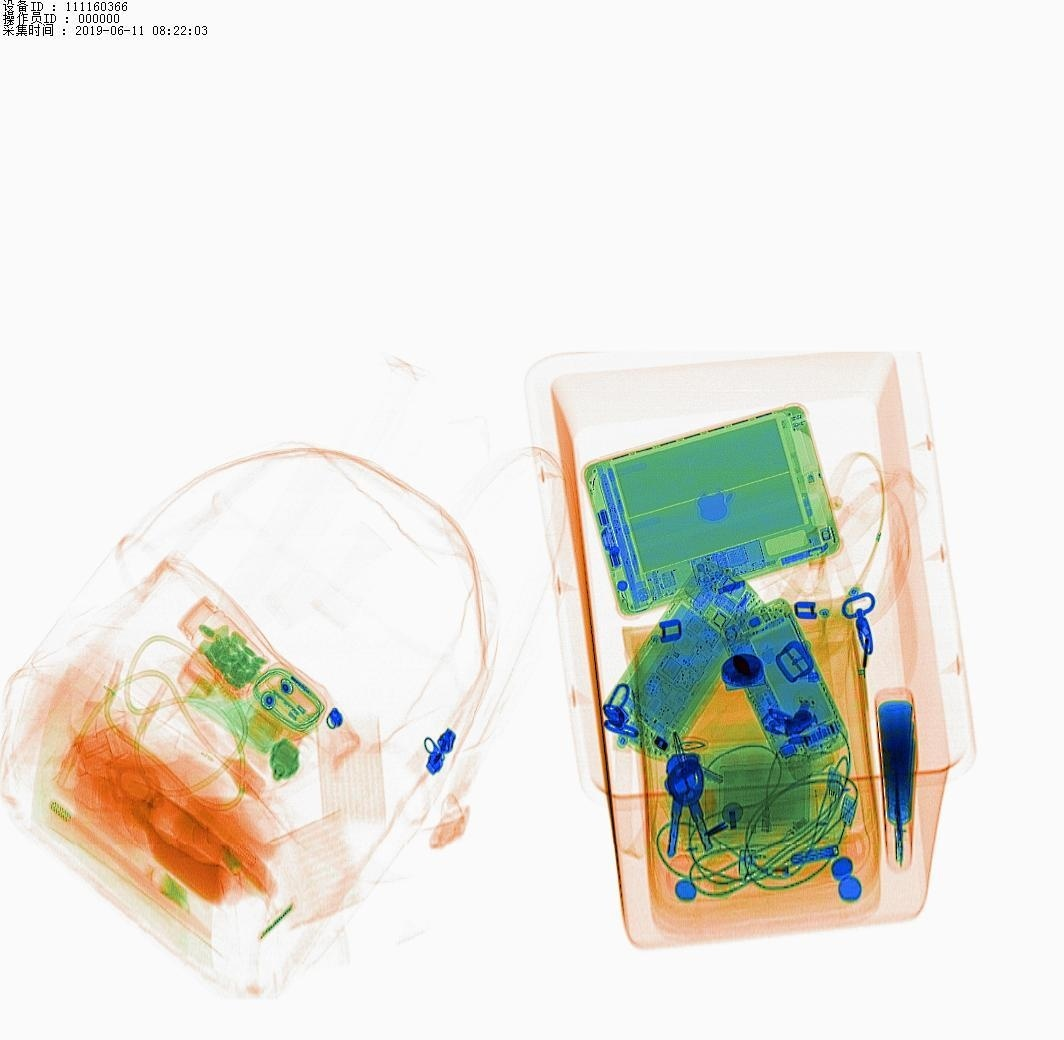NonmetallicFire: (719, 842, 866, 895)
